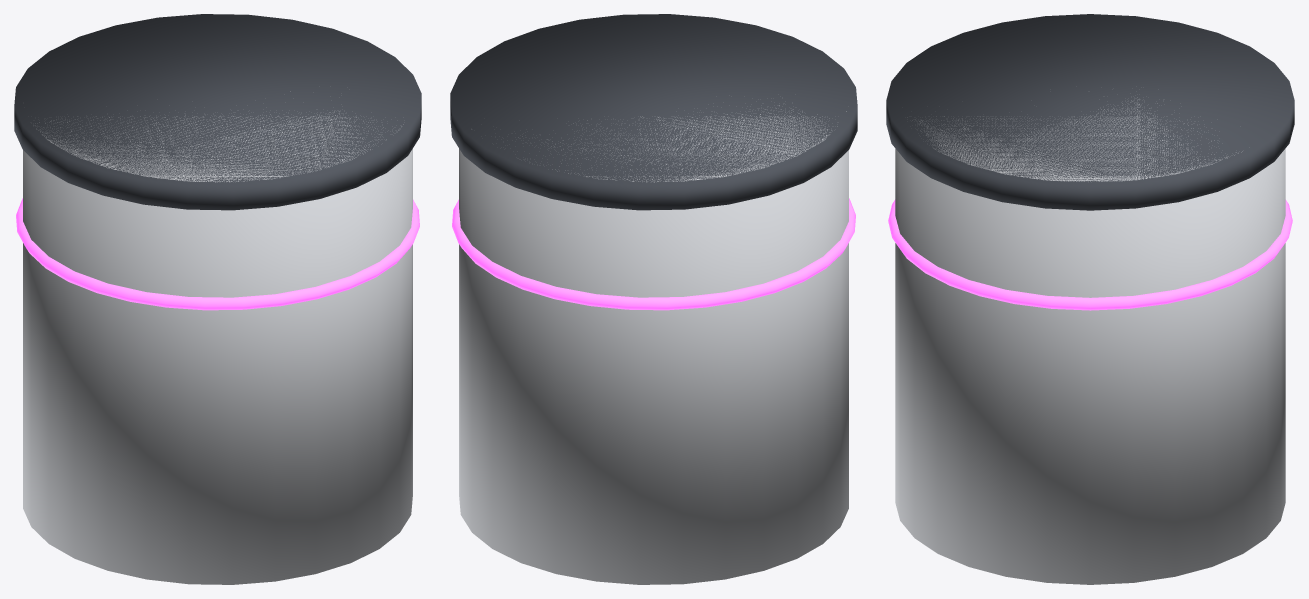
File: nightstand_drum.glb
3 views of the same model, side by side, from view 1: azimuth 30°, elevation 25°; view 2: azimuth 150°, elevation 25°; view 3: azimuth 270°, elevation 25° (orthographic).
Parts seen in each view (by area): view 1: GD_nightstand_drum__m0, GD_nightstand_drum__m2, GD_nightstand_drum__m1; view 2: GD_nightstand_drum__m0, GD_nightstand_drum__m2, GD_nightstand_drum__m1; view 3: GD_nightstand_drum__m0, GD_nightstand_drum__m2, GD_nightstand_drum__m1.
Part boxes in pixels (x1,y1,x2,y2): GD_nightstand_drum__m0: (23,91,412,584); GD_nightstand_drum__m2: (14,14,421,210); GD_nightstand_drum__m1: (16,198,419,310); GD_nightstand_drum__m0: (459,105,848,584); GD_nightstand_drum__m2: (450,14,857,210); GD_nightstand_drum__m1: (452,198,855,310); GD_nightstand_drum__m0: (895,97,1285,584); GD_nightstand_drum__m2: (886,14,1294,210); GD_nightstand_drum__m1: (888,199,1292,310).
Size of the model in its own units: 0.46 by 0.5 by 0.46.
